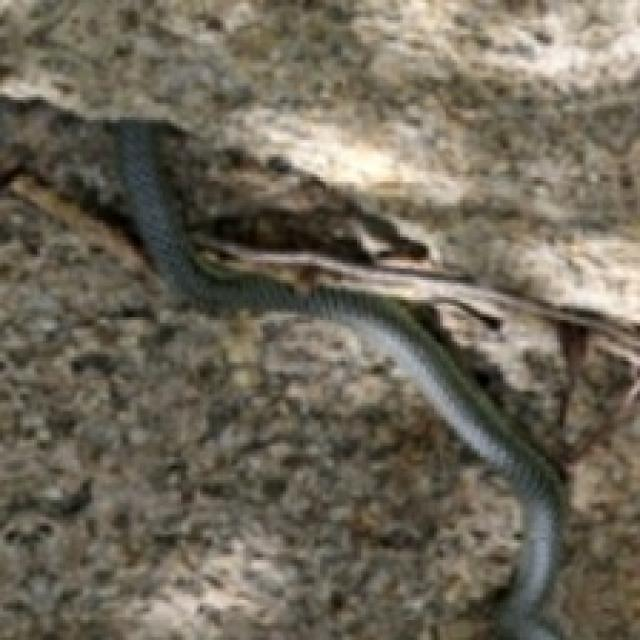paradise tree snake: (114, 124, 564, 639)
